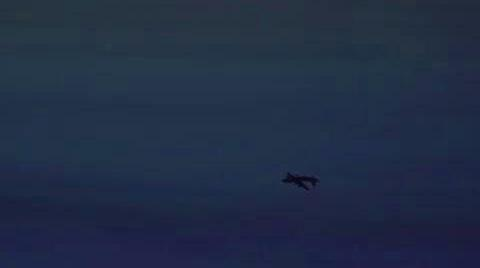Plane: (262, 164, 337, 196)
